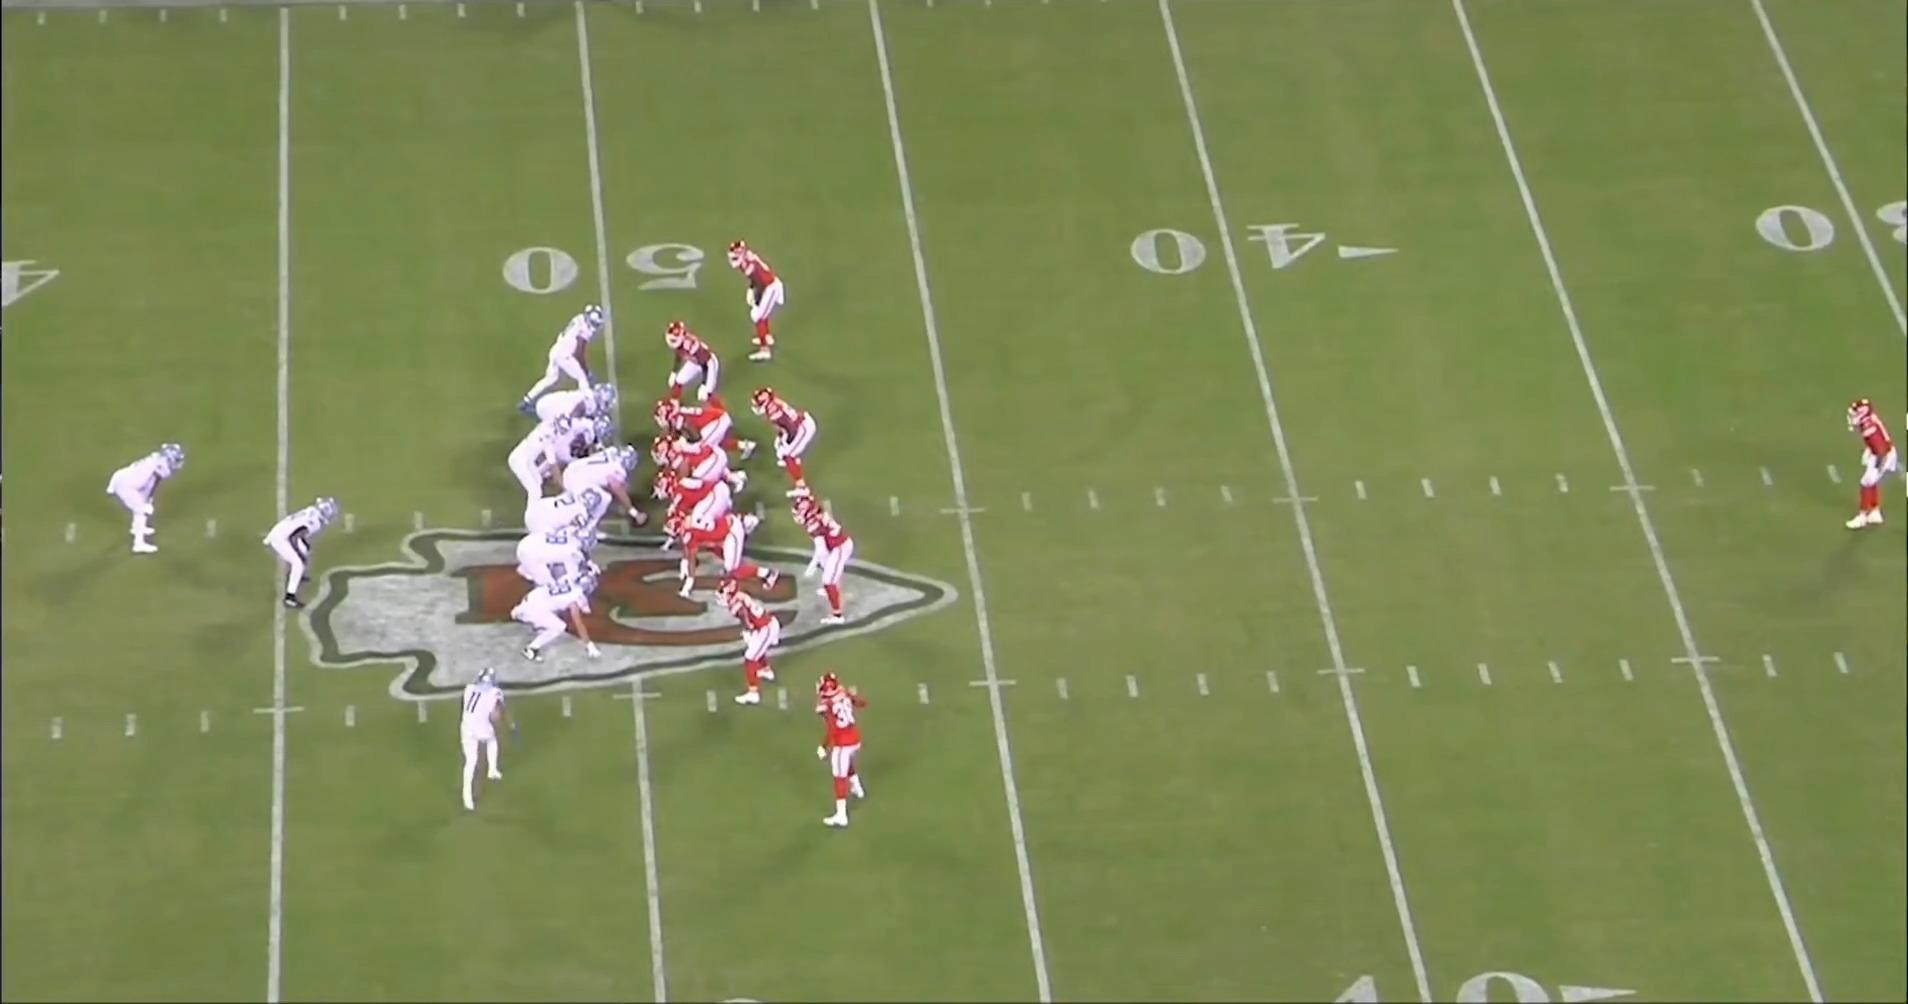player: (111, 437, 199, 563), (668, 509, 791, 599), (519, 305, 613, 418), (452, 660, 517, 821), (809, 669, 871, 835), (263, 492, 344, 614), (798, 490, 866, 631), (517, 525, 608, 627), (510, 565, 601, 666), (1846, 396, 1908, 539), (554, 446, 643, 543), (730, 232, 793, 363), (715, 576, 777, 702), (658, 470, 747, 557), (750, 386, 820, 496), (511, 409, 577, 514), (665, 399, 764, 460), (647, 435, 749, 494), (668, 323, 734, 414), (516, 486, 600, 552), (533, 381, 618, 433), (545, 415, 616, 463)
